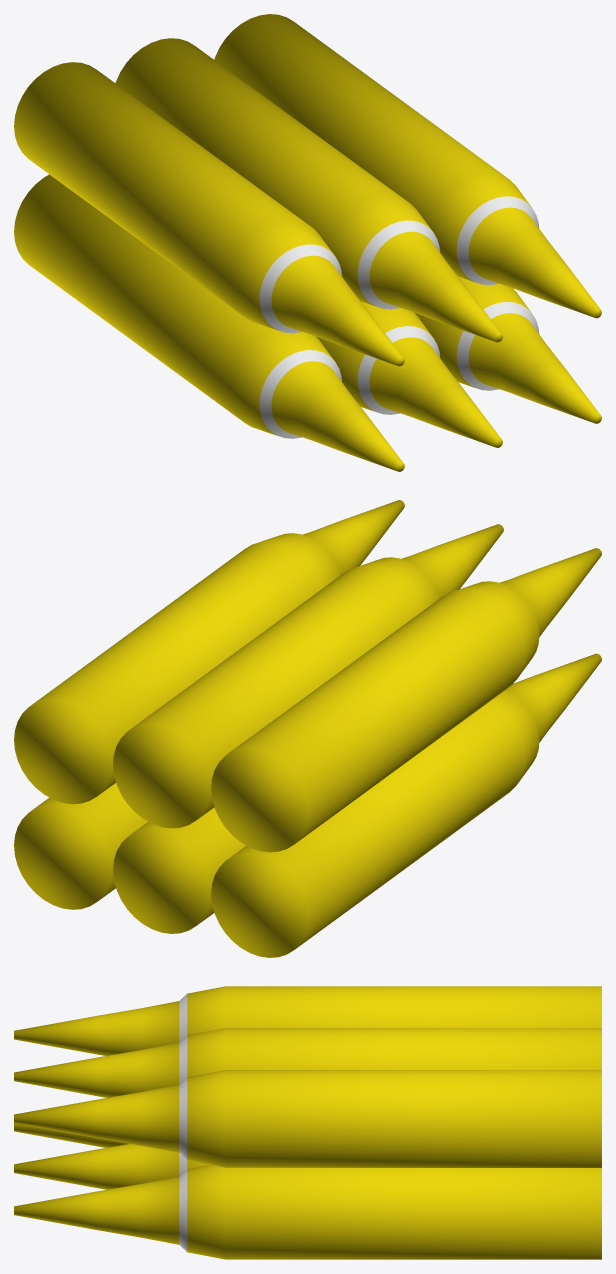
The model's file is Ammo.fbx.
The picture shows the model from 3 angles, top to bottom: view 1: azimuth 30°, elevation 25°; view 2: azimuth 150°, elevation 25°; view 3: azimuth 270°, elevation 25°; orthographic projection. The views are drawn at different scales.
Visible parts, largest first — view 1: Cylinder.006; view 2: Cylinder.006; view 3: Cylinder.006.
Part boxes in pixels (x1,y1,x2,y2): Cylinder.006: [14, 14, 601, 471]; Cylinder.006: [14, 500, 601, 957]; Cylinder.006: [14, 986, 601, 1259].
Size of the model in its own units: 242 by 163 by 480.
